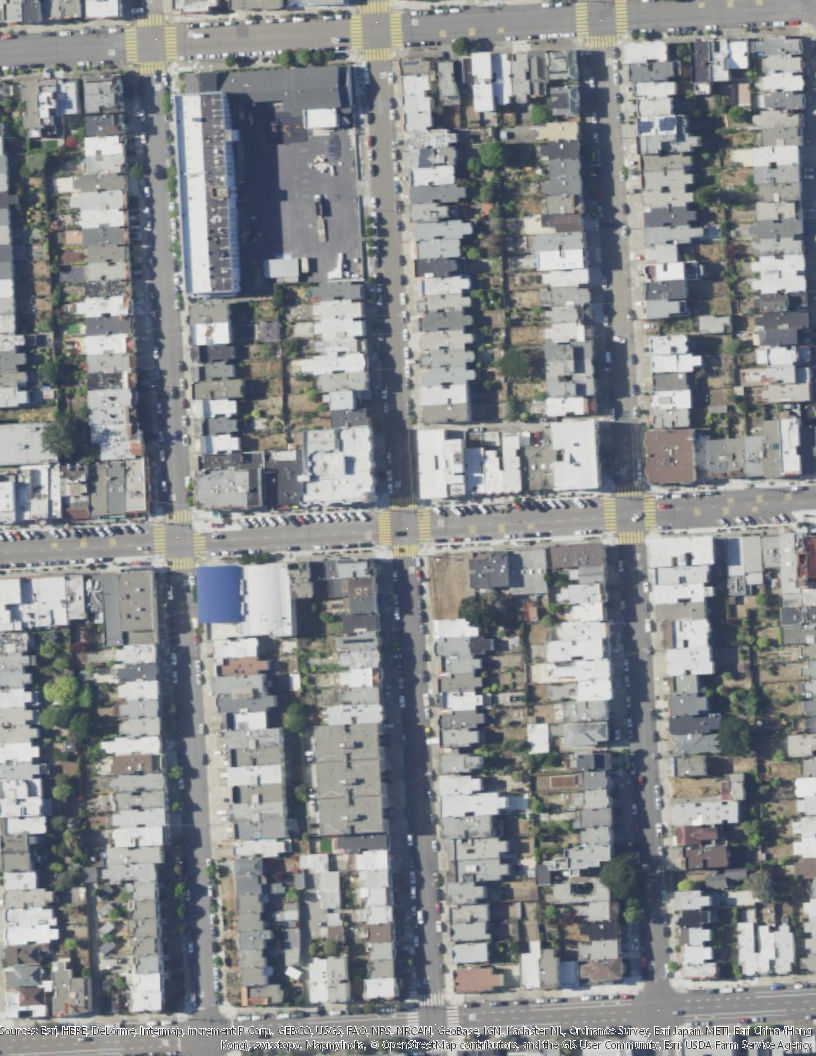zebracross: (574, 1, 590, 35), (614, 1, 630, 35), (389, 13, 404, 48), (377, 510, 392, 544), (350, 15, 364, 51), (418, 509, 432, 543), (124, 28, 138, 62), (152, 523, 166, 554), (165, 26, 178, 59), (604, 498, 616, 533), (137, 13, 165, 28), (587, 35, 619, 48), (139, 61, 167, 75), (616, 483, 642, 498), (419, 992, 444, 1007), (644, 498, 656, 529), (388, 498, 416, 511), (167, 557, 194, 570), (365, 48, 392, 61), (166, 509, 191, 523), (362, 1, 390, 13), (620, 531, 646, 543), (394, 544, 420, 556), (192, 532, 206, 554), (447, 1007, 460, 1025), (407, 1011, 419, 1028)
